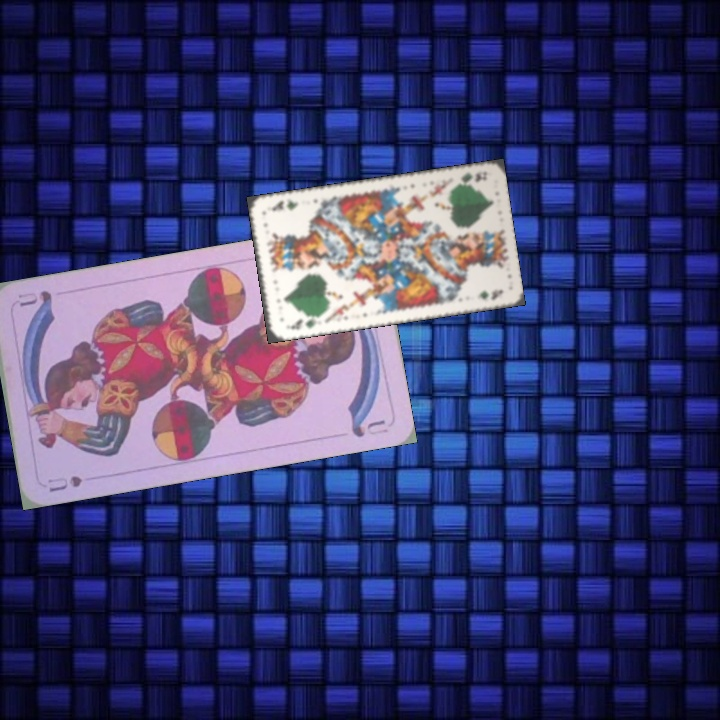GK: (450, 168, 490, 189), (282, 312, 321, 332)
SU: (44, 471, 85, 495)
